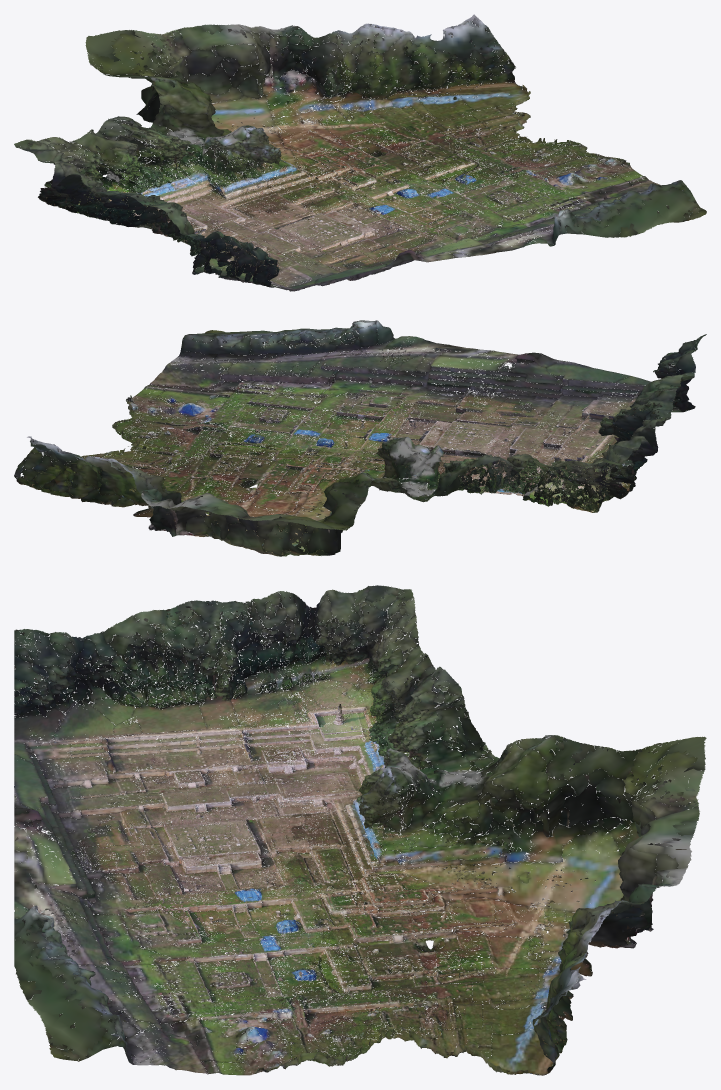
File: scan.glb
3 renders of one model, top to bottom at view 1: azimuth 30°, elevation 25°; view 2: azimuth 150°, elevation 25°; view 3: azimuth 270°, elevation 25°, orthographic. The views are drawn at different scales.
Visible parts, largest first — view 1: MeshTransform, object 3, object 7, object 20, object 6, object 19, object 2, object 4, object 10, object 8, object 14, object 5 (+8 smaller); view 2: object 7, object 3, object 12, object 20, MeshTransform, object 8, object 6, object 2, object 4, object 10, object 17, object 14 (+7 smaller); view 3: object 20, object 7, object 3, object 13, object 4, object 14, MeshTransform, object 12, object 6, object 8, object 2, object 15 (+8 smaller).
Part boxes in pixels (<box>): MeshTransform: <box>269,14,538,155</box>; object 3: <box>88,24,521,192</box>; object 7: <box>393,180,706,247</box>; object 20: <box>85,30,480,265</box>; object 6: <box>272,157,659,214</box>; object 19: <box>126,125,281,199</box>; object 2: <box>407,130,646,185</box>; object 4: <box>196,117,428,186</box>; object 10: <box>41,161,406,256</box>; object 8: <box>335,196,540,260</box>; object 14: <box>70,173,322,291</box>; object 5: <box>261,160,463,206</box>; object 7: <box>166,320,444,447</box>; object 3: <box>139,420,345,556</box>; object 12: <box>448,352,644,478</box>; object 20: <box>263,348,517,556</box>; MeshTransform: <box>14,436,237,530</box>; object 8: <box>329,336,516,450</box>; object 6: <box>126,361,405,471</box>; object 2: <box>112,384,261,475</box>; object 4: <box>198,451,359,531</box>; object 10: <box>430,393,658,498</box>; object 17: <box>469,453,625,512</box>; object 14: <box>550,334,706,485</box>; object 20: <box>14,676,706,885</box>; object 7: <box>14,882,289,1065</box>; object 3: <box>260,741,704,1010</box>; object 13: <box>14,601,315,762</box>; object 4: <box>327,818,567,968</box>; object 14: <box>14,591,339,775</box>; MeshTransform: <box>343,900,642,1075</box>; object 12: <box>14,746,306,876</box>; object 6: <box>143,841,359,1075</box>; object 8: <box>14,826,288,945</box>; object 2: <box>202,951,429,1075</box>; object 15: <box>65,615,370,783</box>.
Bounding box in the file's own units: 17.65 × 3.6 × 15.04.
1 material, 1 textured.
